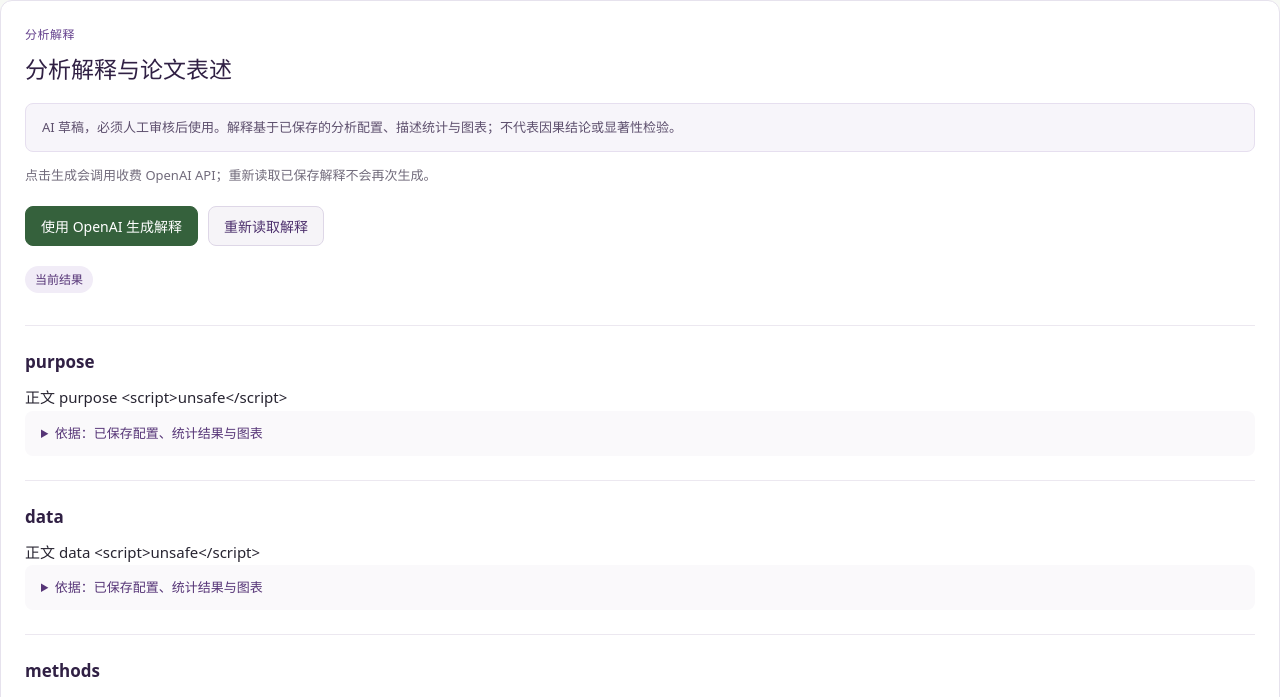
network failure preserves draft and manual reread clears error without POST
Click the button "重新读取解释": (266, 226) [208,206,324,246]
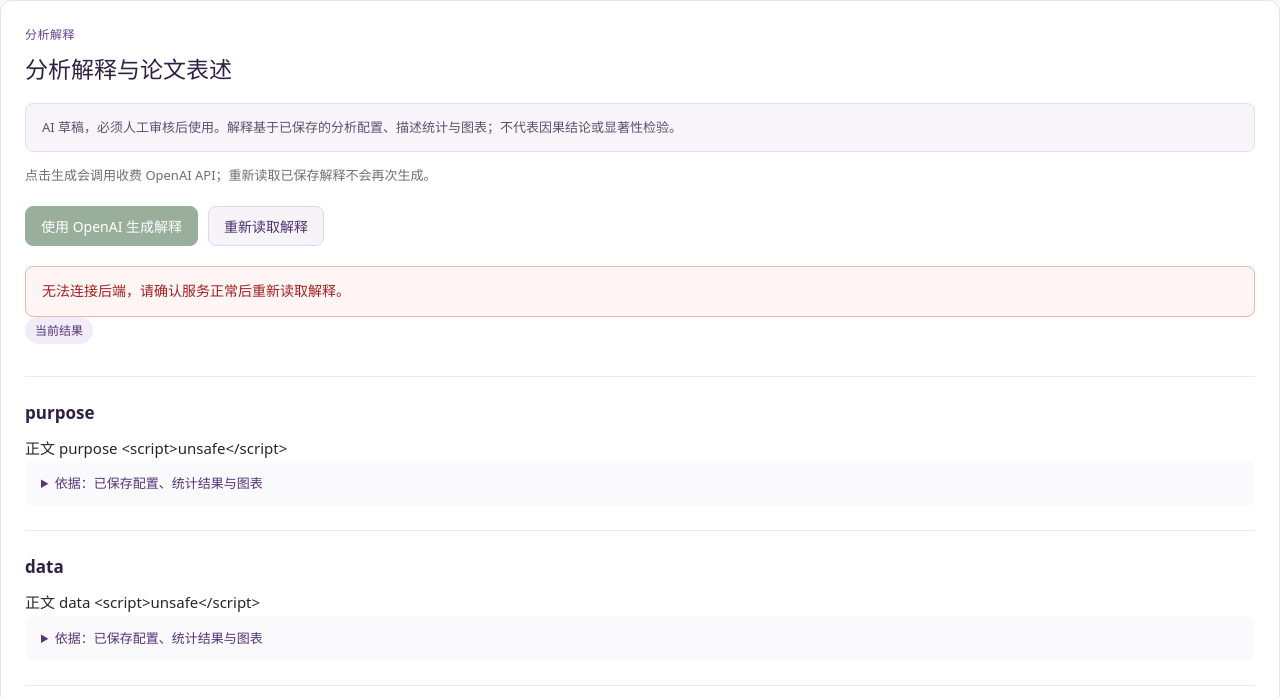
Now the message "无法连接后端，请确认服务正常后重新读取解释。" is shown, box [25,266,1255,317]
Now the button "使用 OpenAI 生成解释" is disabled, box [25,206,198,246]
Click the button "重新读取解释": (266, 226) [208,206,324,246]
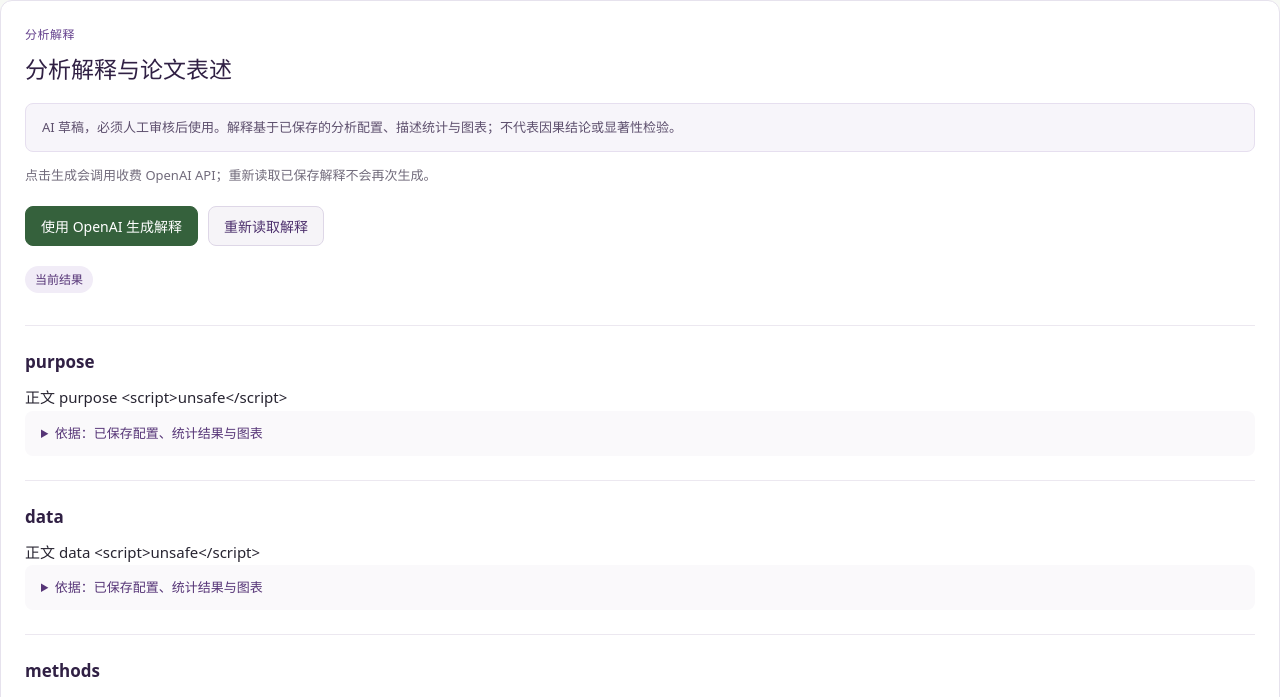
Now the message "无法连接后端，请确认服务正常后重新读取解释。" is gone
